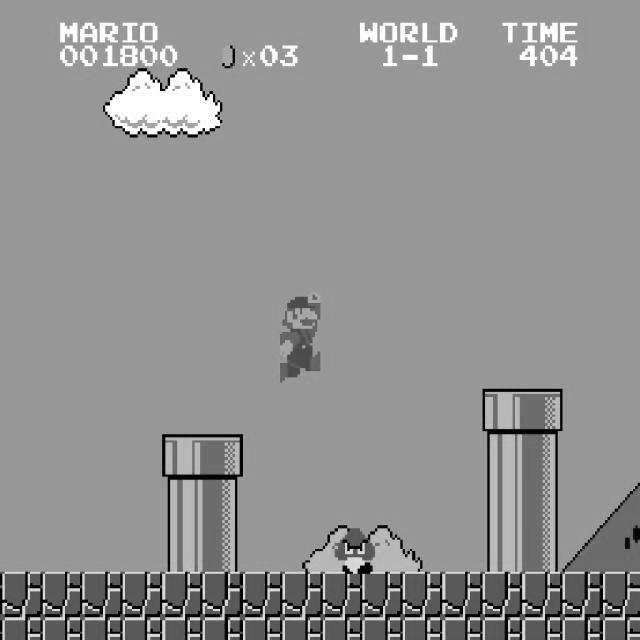0- big_mario: (277, 288, 320, 382)
14- pipe: (162, 480, 203, 526), (162, 526, 203, 572), (202, 480, 243, 526), (202, 526, 243, 572), (482, 434, 523, 480), (482, 480, 523, 526), (482, 526, 523, 572), (522, 434, 563, 480), (522, 480, 563, 526), (522, 526, 563, 572)
15- pipe_head: (162, 434, 203, 480), (202, 434, 243, 480), (482, 388, 523, 434), (522, 388, 563, 434)
17- undestructible_block: (2, 572, 43, 618), (42, 572, 83, 618), (82, 572, 123, 618), (122, 572, 163, 618), (162, 572, 203, 618), (202, 572, 243, 618), (242, 572, 283, 618), (282, 572, 323, 618), (322, 572, 363, 618), (362, 572, 403, 618), (402, 572, 443, 618), (442, 572, 483, 618), (482, 572, 523, 618), (522, 572, 563, 618), (562, 572, 603, 618), (603, 572, 640, 618), (2, 617, 43, 640), (42, 617, 83, 640), (82, 617, 123, 640), (122, 617, 163, 640), (162, 617, 203, 640), (202, 617, 243, 640), (242, 617, 283, 640), (282, 617, 323, 640), (322, 617, 363, 640), (362, 617, 403, 640), (402, 617, 443, 640), (442, 617, 483, 640), (482, 617, 523, 640), (522, 617, 563, 640), (562, 617, 603, 640), (603, 617, 640, 640), (0, 571, 2, 617), (0, 617, 2, 639)
8- goomba: (332, 526, 375, 574)
